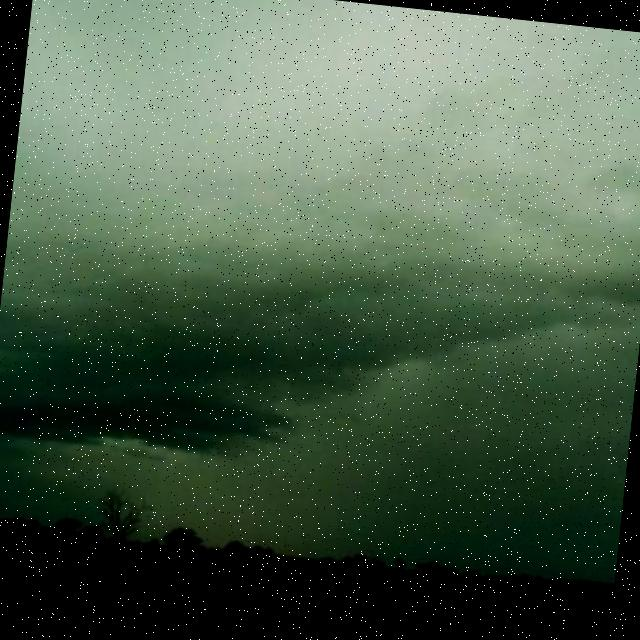Ns: (1, 121, 640, 529)
